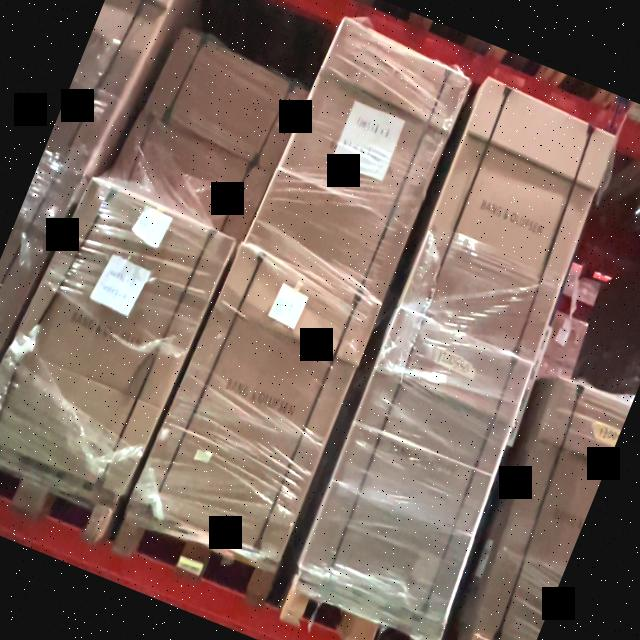box: (132, 239, 386, 562), (0, 175, 234, 494), (300, 304, 535, 619), (243, 14, 471, 301), (399, 78, 616, 364)
